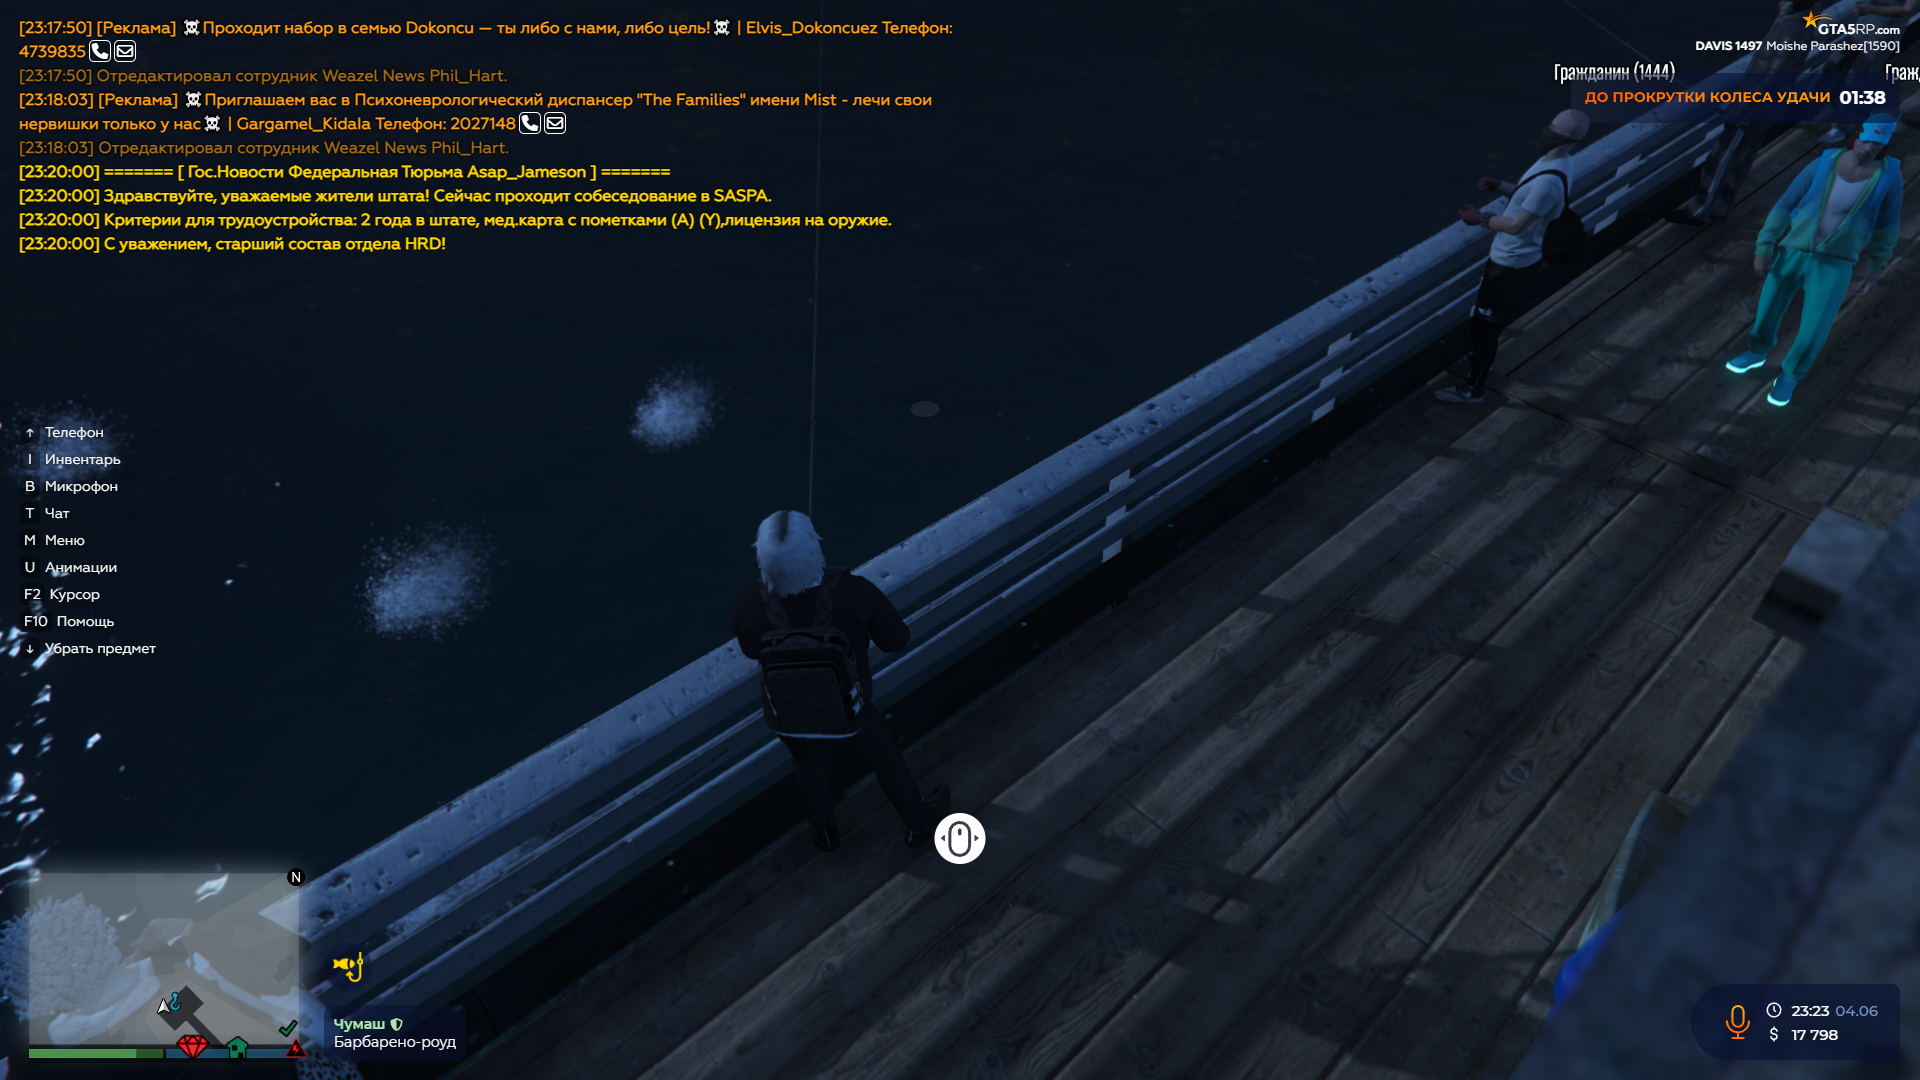circle: (909, 400, 944, 419)
